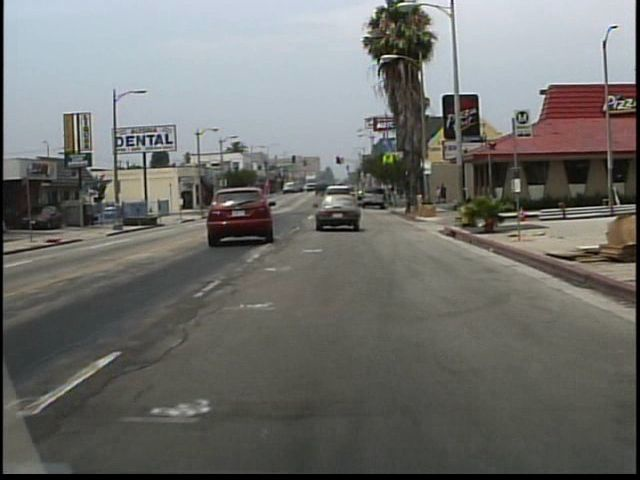person: (440, 183, 448, 205), (434, 184, 441, 206)
